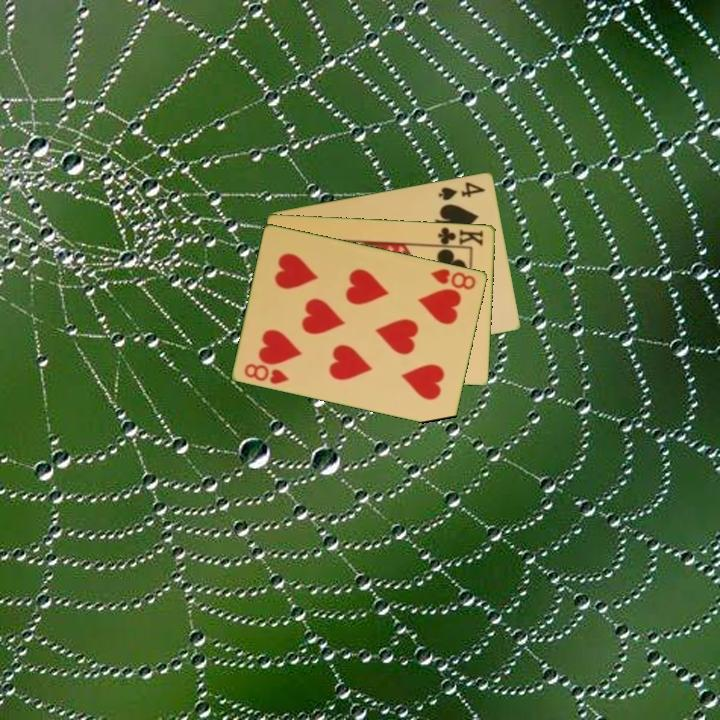4s: (435, 178, 488, 203)
8h: (427, 265, 479, 292), (241, 360, 292, 387)
Kc: (432, 224, 486, 249)
